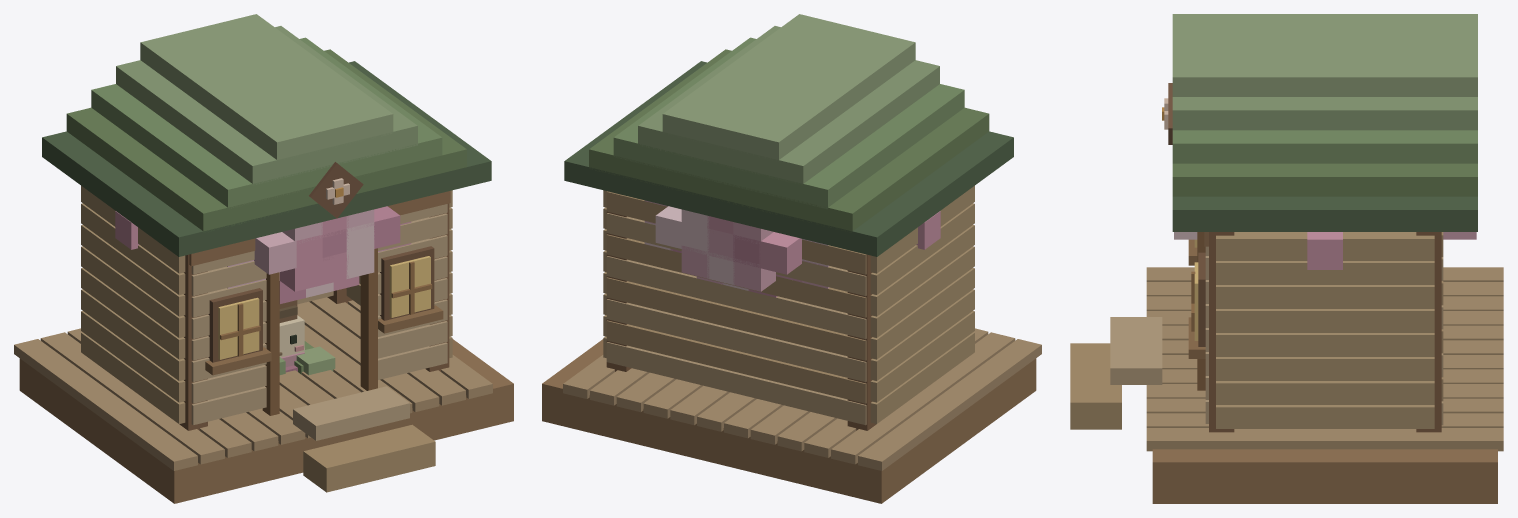
File: hidden-garden.glb
3 renders of one model, left to right at view 1: azimuth 30°, elevation 25°; view 2: azimuth 150°, elevation 25°; view 3: azimuth 270°, elevation 25°, orthographic. The views are drawn at different scales.
Visible parts, largest first — view 1: treehouse, cherry, shrub, sprout; view 2: treehouse, cherry; view 3: treehouse, cherry.
Part boxes in pixels (<box>): treehouse: <box>14,14,513,503</box>; cherry: <box>115,206,411,322</box>; shrub: <box>279,341,335,375</box>; sprout: <box>279,315,304,357</box>; treehouse: <box>542,14,1041,503</box>; cherry: <box>644,200,940,297</box>; treehouse: <box>1070,14,1503,503</box>; cherry: <box>1174,232,1476,269</box>.
Bounding box in the file's own units: 3.84 × 3.72 × 3.76.
